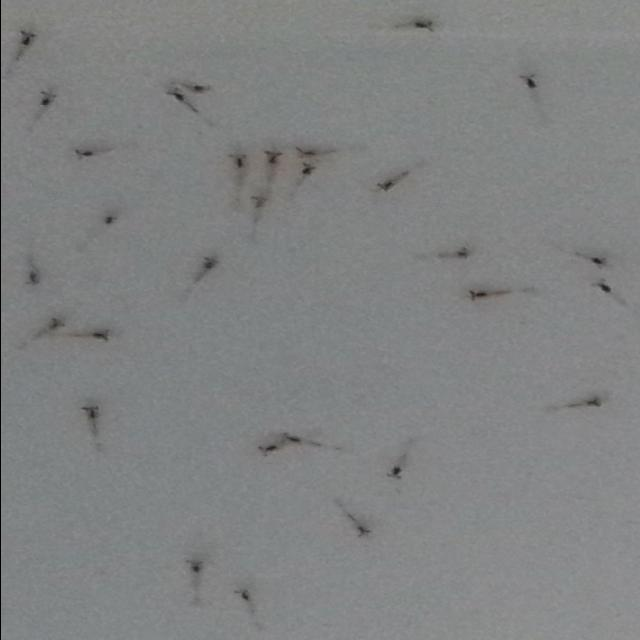shrimp-seed: (179, 554, 208, 580), (36, 315, 68, 337), (78, 402, 104, 428), (572, 391, 602, 413), (228, 586, 258, 606), (345, 519, 372, 541), (374, 173, 402, 194), (247, 192, 271, 216), (14, 27, 39, 49), (275, 431, 305, 449), (222, 152, 252, 170), (196, 254, 220, 276), (252, 439, 278, 459), (512, 71, 538, 91), (86, 325, 114, 343), (380, 465, 408, 483), (34, 88, 59, 108), (258, 149, 282, 169), (589, 278, 613, 298), (182, 78, 210, 95), (292, 144, 320, 161), (68, 145, 95, 160), (22, 268, 42, 288), (583, 252, 605, 270), (410, 18, 436, 33), (296, 162, 318, 179), (162, 88, 184, 104), (466, 288, 488, 304), (446, 248, 466, 262), (100, 214, 118, 228)
